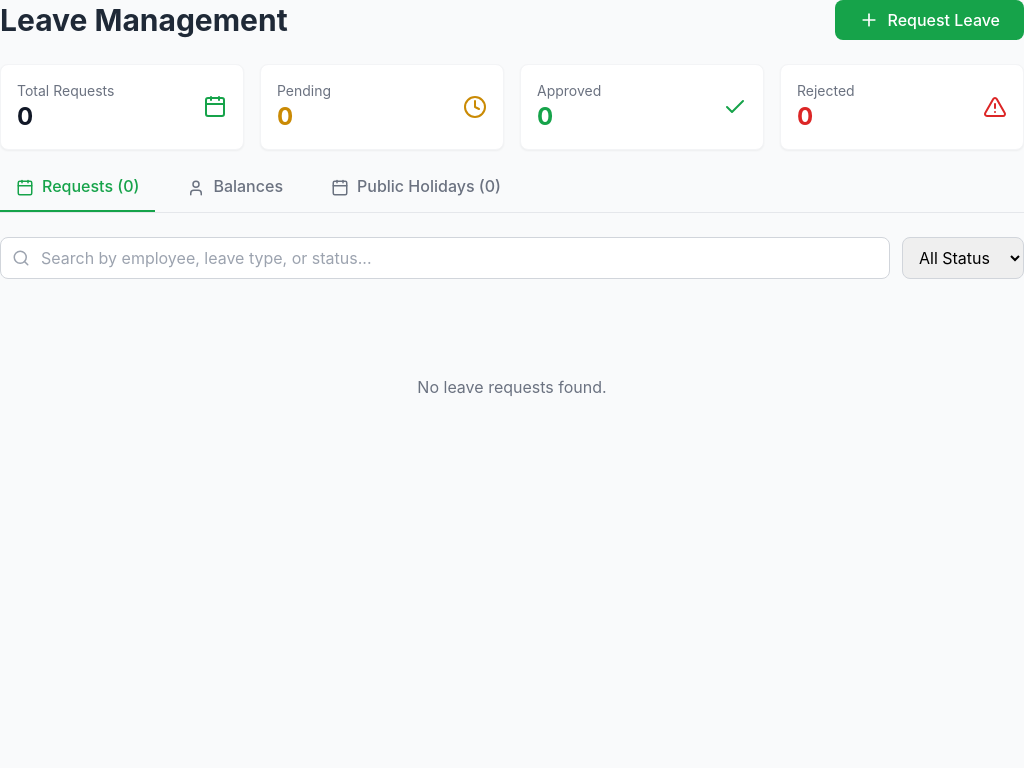
Test: LeaveManagement › closes form on cancel
Click the button with test id "request-leave-btn". click: (930, 20)
box: top-left (836, 0), bottom-right (1023, 40)
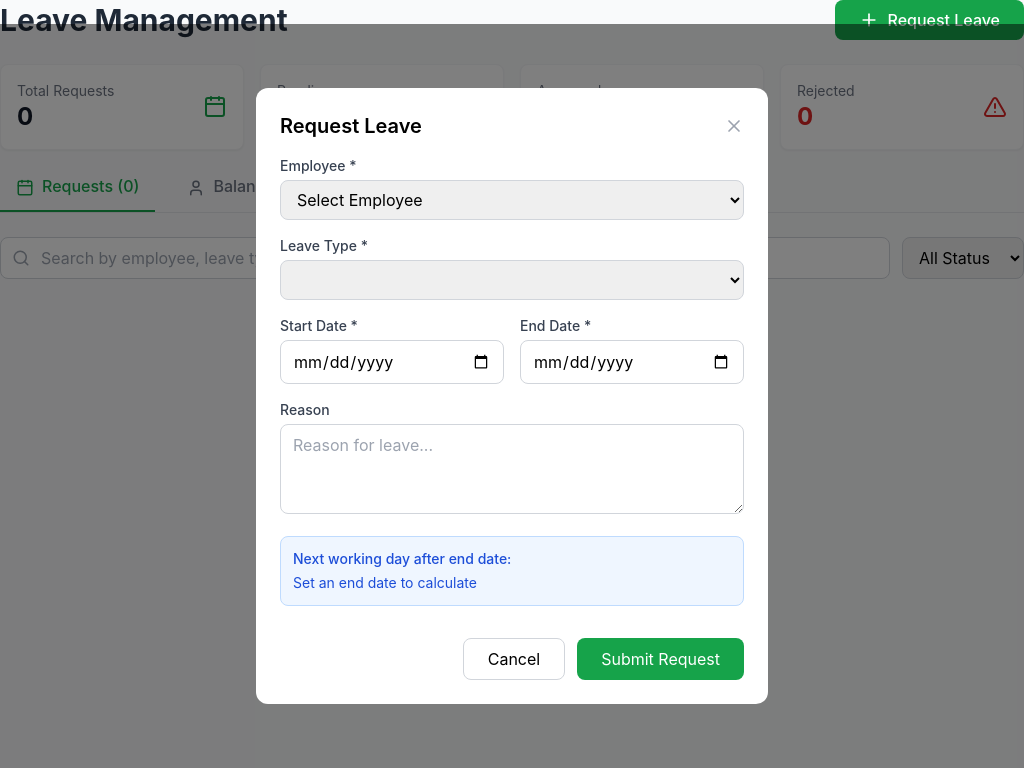
Now the heading "Request Leave" is shown, box top-left (280, 112), bottom-right (422, 140)
Click the button with test id "cancel-form". click: (514, 659)
box: top-left (463, 638), bottom-right (565, 680)
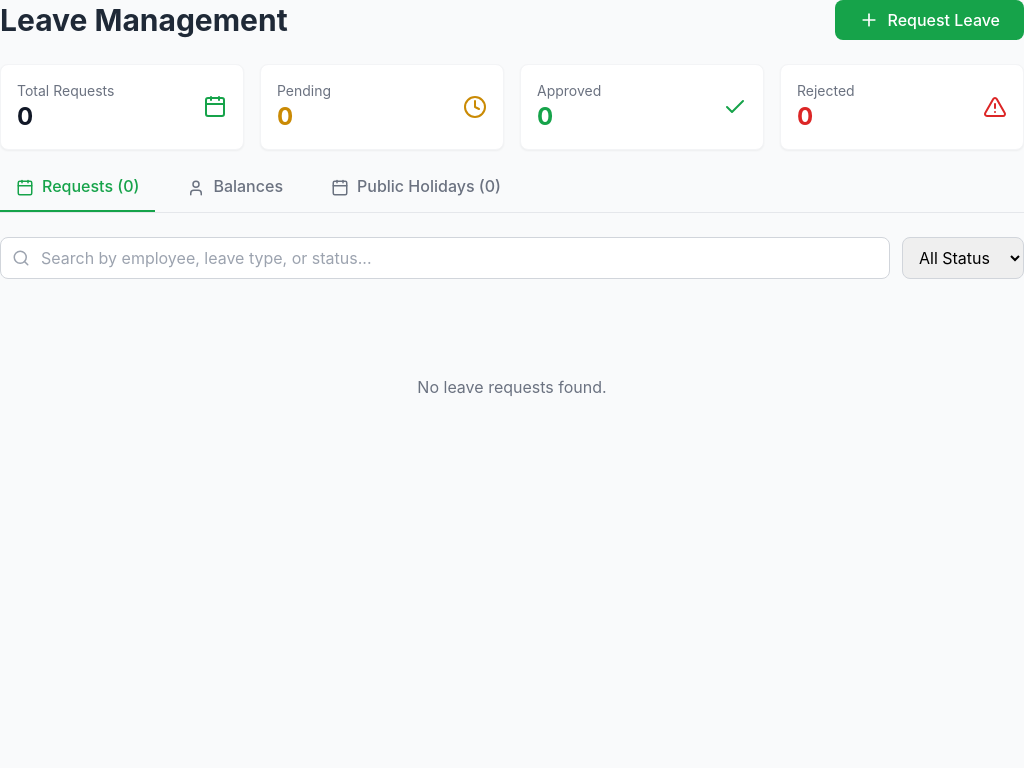
Now the heading with test id "form-heading" is gone
